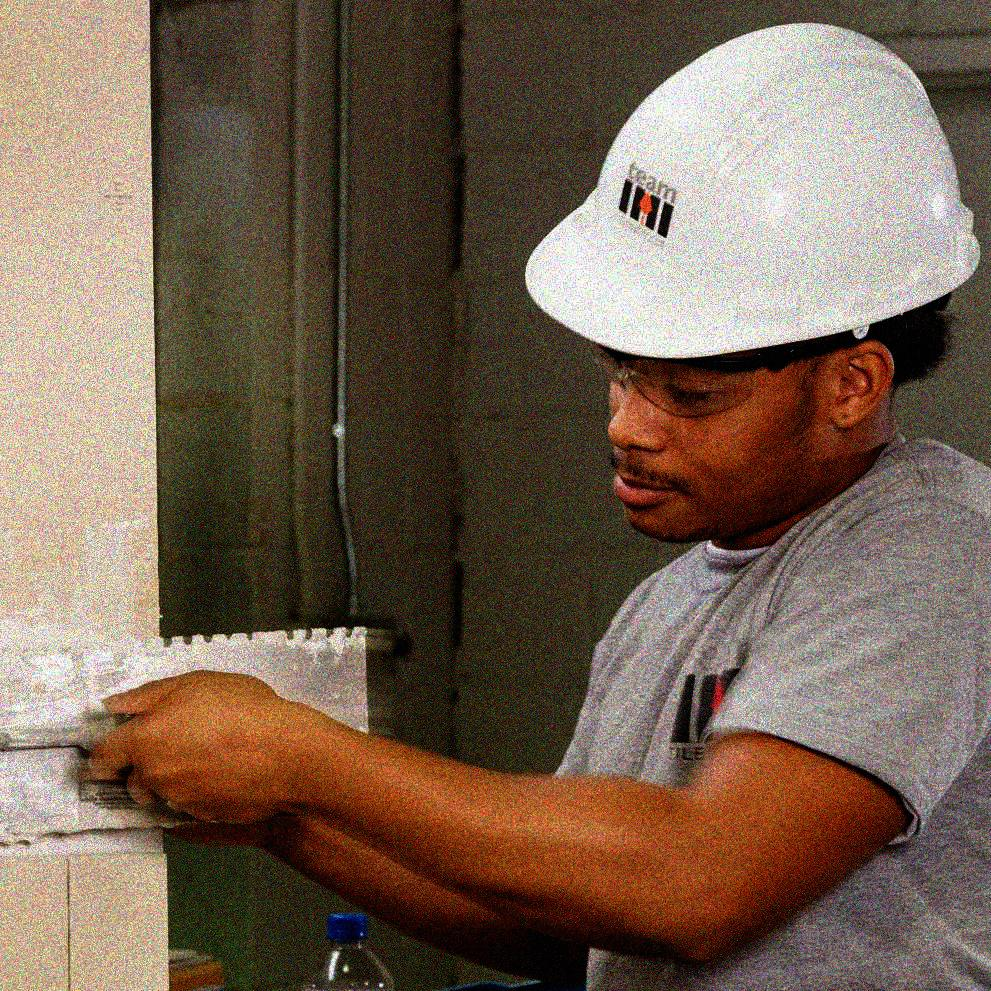helmet: (520, 22, 987, 533)
